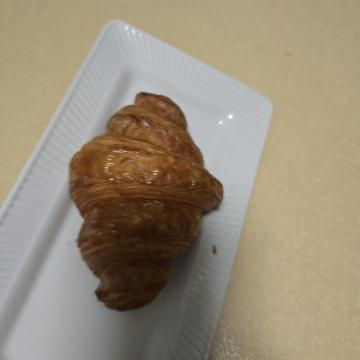croissant: (74, 130, 321, 298)
